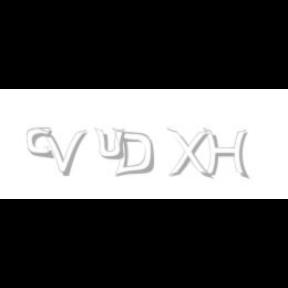D: (112, 128, 154, 178)
H: (203, 128, 249, 180)
V: (39, 128, 87, 176)
X: (166, 128, 210, 180)
c: (26, 128, 55, 160)
u: (94, 128, 130, 160)
